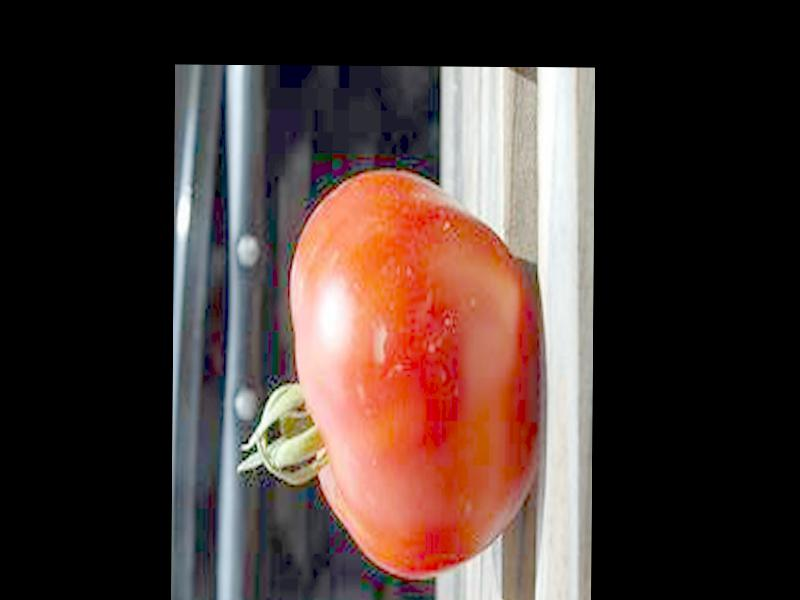Tomato: (238, 170, 537, 577)
